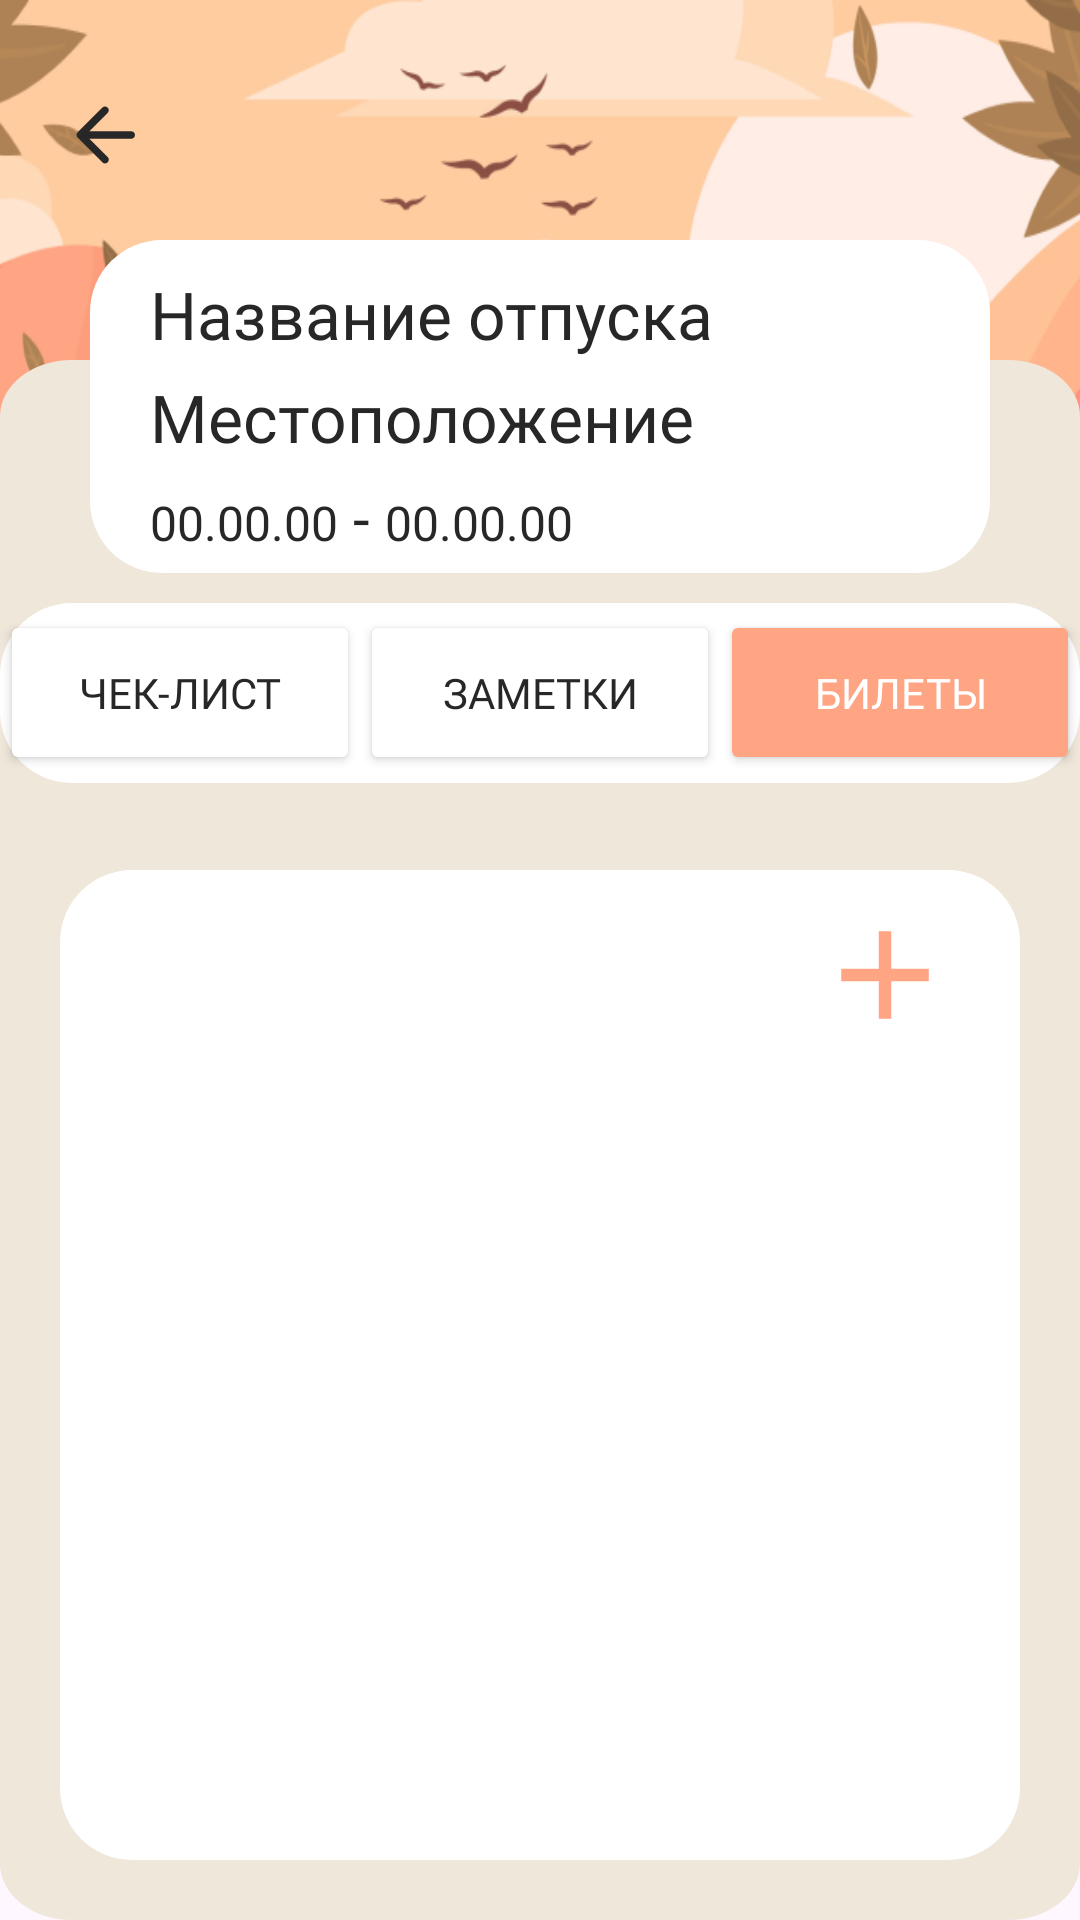

Screen size 1080*1920. Icon name, then its center in pixels as (x=x, y=y):
add: (x=885, y=975)
arrow back: (x=97, y=135)
